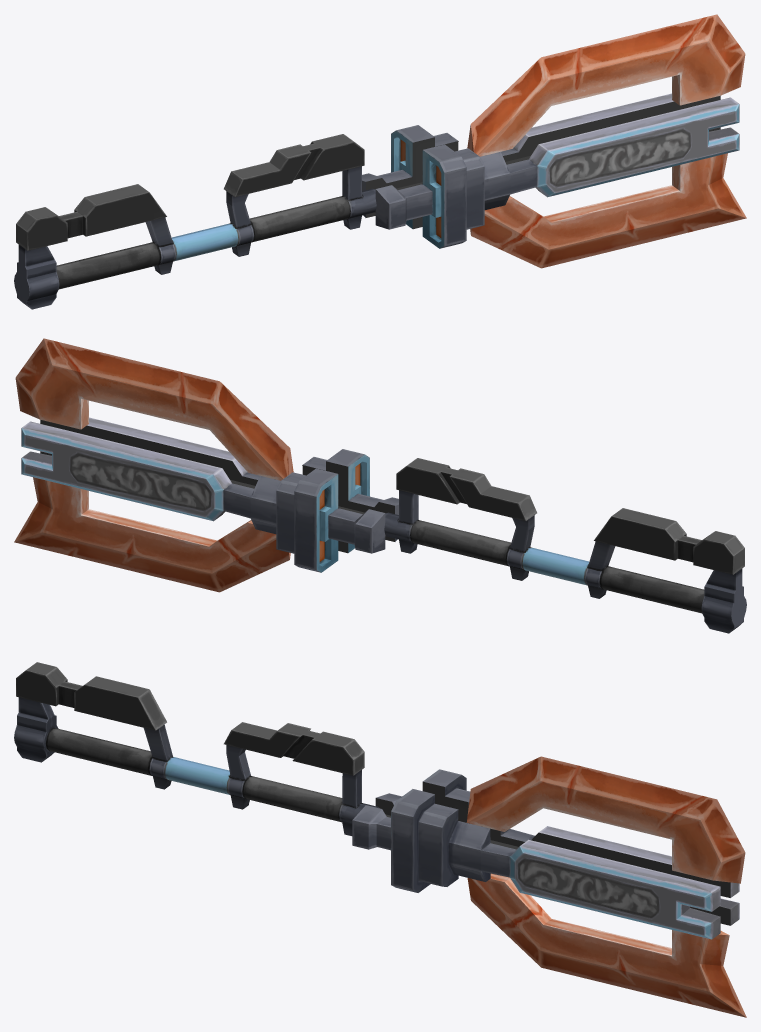
The model's file is glaive.glb.
3 renders of one model, top to bottom at view 1: azimuth 30°, elevation 25°; view 2: azimuth 150°, elevation 25°; view 3: azimuth 330°, elevation 25°, orthographic.
Parts seen in each view (by area): view 1: polySurface5, pCylinder3, polySurface6, pasted__polySurface1; view 2: polySurface5, pCylinder3, polySurface6, pasted__polySurface1; view 3: polySurface5, pCylinder3, polySurface6, pasted__polySurface1.
Boxes of the visible parts, x1,y1,x2,y2 form: polySurface5: (362, 93, 739, 248); pCylinder3: (14, 134, 376, 309); polySurface6: (467, 14, 745, 156); pasted__polySurface1: (470, 153, 746, 268); polySurface5: (21, 417, 398, 572); pCylinder3: (384, 458, 746, 633); polySurface6: (15, 338, 293, 480); pasted__polySurface1: (14, 477, 290, 592); polySurface5: (352, 769, 739, 939); pCylinder3: (14, 662, 379, 835); polySurface6: (466, 756, 745, 883); pasted__polySurface1: (467, 873, 746, 1017).
Size of the model in its own units: 0.8129 by 0.2263 by 0.1035.
Materials: 1 (1 with a texture image).
